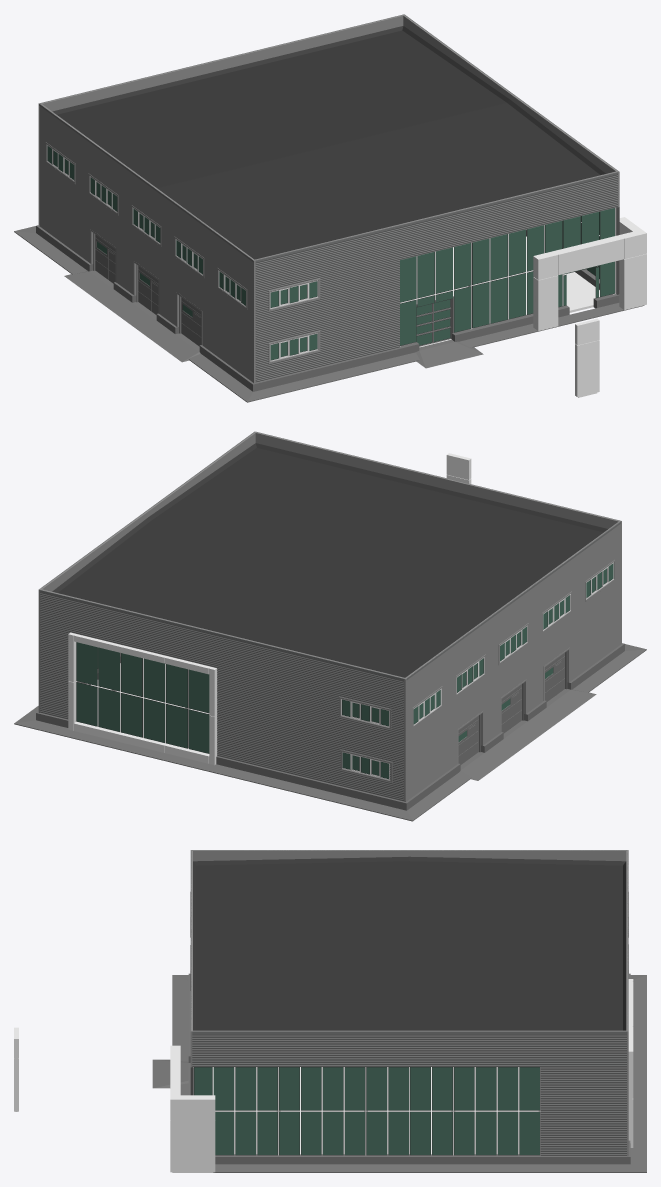
File: Car Dealership Building 3D Model.FBX
3 views of the same model, one above another, from view 1: azimuth 30°, elevation 25°; view 2: azimuth 150°, elevation 25°; view 3: azimuth 270°, elevation 25° (orthographic).
Parts seen in each view (by area): view 1: Box40, Box41, Ellipse14, Box51, Box42, Box46, Box39, Box155, Box50, Box60, Box47, Box73 (+9 smaller); view 2: Box40, Ellipse14, Box41, Box69, Box46, Box67, Box39, Box155, Box50, Box73, Box71, Box44 (+5 smaller); view 3: Box40, Box52, Ellipse14, Box46, Box41, Box39, Box42, Box50, Box47, Box67, Box70, Box68.
Part boxes in pixels (x1,y1,x2,y2): Box40: (52,26,605,259); Box41: (39,15,618,382); Ellipse14: (255,174,617,382); Box51: (400,208,615,345); Box42: (533,217,646,330); Box46: (14,226,644,402); Box39: (36,225,619,391); Box155: (64,270,200,362); Box50: (39,14,619,262); Box60: (575,318,599,397); Box47: (401,234,599,347); Box73: (45,142,320,363); Box40: (52,443,607,677); Ellipse14: (40,592,405,801); Box41: (40,432,620,801); Box69: (76,642,209,753); Box46: (14,644,646,821); Box67: (68,632,217,765); Box39: (36,643,624,810); Box155: (459,689,596,780); Box50: (39,431,621,680); Box73: (339,560,614,782); Box71: (341,699,389,727); Box44: (38,521,621,801); Box40: (193,856,626,1030); Box52: (194,1067,540,1155); Ellipse14: (192,1033,626,1155); Box46: (172,975,646,1172); Box41: (191,850,628,1031); Box39: (188,973,630,1164); Box42: (170,1045,215,1172); Box50: (190,850,628,1033); Box47: (212,1067,538,1154); Box67: (628,979,633,1147); Box70: (152,1059,190,1088); Box68: (193,1067,540,1155).
Bounding box in the file's own units: 29180 × 9053 × 38674.
